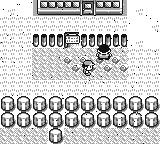leer: (64, 32, 80, 48)
main: (82, 60, 95, 76)
no-caminable: (1, 95, 160, 143), (37, 1, 81, 15), (80, 34, 127, 47), (33, 33, 63, 47), (96, 0, 124, 15)
npc: (96, 44, 112, 61)
puerta: (82, 1, 94, 15)
